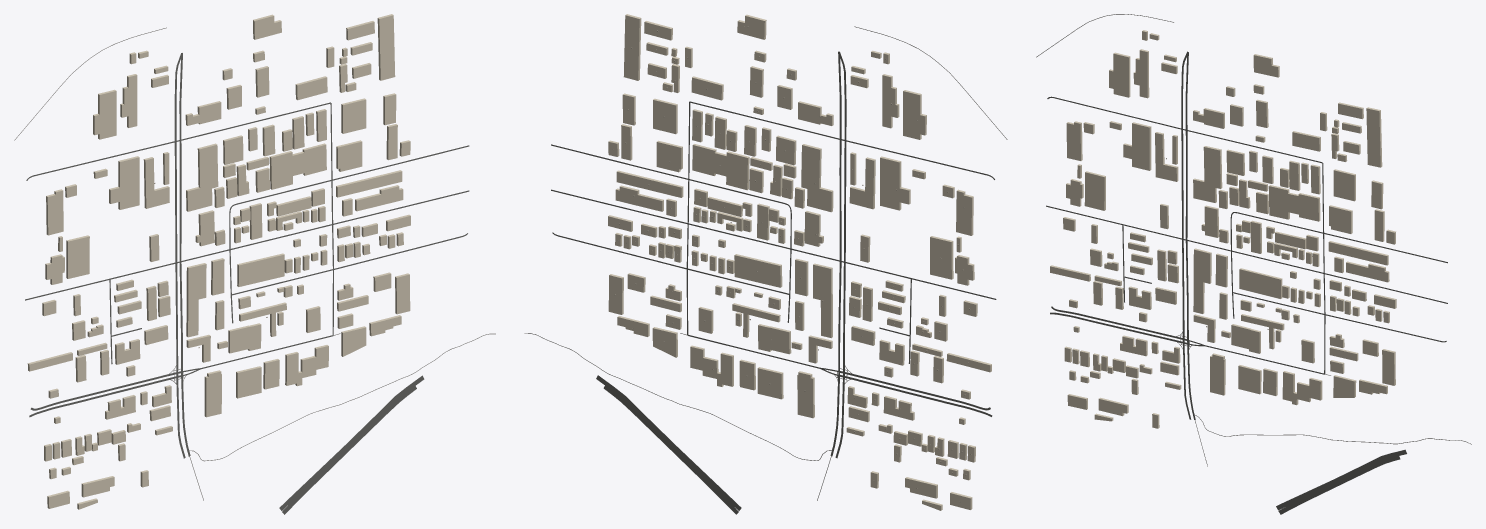
The model's file is historic-palestine-05_24_3468_3183.glb.
The picture shows the model from 3 angles, left to right: view 1: azimuth 30°, elevation 25°; view 2: azimuth 150°, elevation 25°; view 3: azimuth 330°, elevation 25°; orthographic projection. The views are drawn at different scales.
Visible parts, largest first — view 1: Building_.046, Building_.002, Building_.005, Building_.008, Building_.017, Building_.080, Building_.007, Building_.115, Building_.006, Road 41, Road הנפט.004, Road הקדמה (+20 smaller); view 2: Building_.046, Building_.002, Building_.005, Building_.017, Building_.008, Building_.080, Building_.007, Building_.115, Building_.006, Road 41, Road הנפט.004, Road הקדמה (+20 smaller); view 3: Building_.046, Building_.002, Building_.005, Building_.008, Building_.017, Building_.080, Building_.007, Building_.115, Building_.006, Road הקדמה, Road הנפט, Road 41 (+14 smaller).
Part boxes in pixels (x1,y1,x2,y2): Building_.046: [269, 143, 326, 189]; Building_.002: [186, 143, 218, 211]; Building_.005: [109, 156, 139, 209]; Building_.008: [186, 263, 206, 337]; Building_.017: [237, 253, 284, 286]; Building_.080: [285, 345, 328, 386]; Building_.007: [377, 14, 395, 80]; Building_.115: [93, 89, 116, 139]; Building_.006: [66, 235, 89, 278]; Road 41: [279, 375, 424, 510]; Road הנפט.004: [179, 53, 182, 371]; Road הקדמה: [25, 190, 469, 300]; Building_.046: [692, 144, 749, 190]; Building_.002: [801, 144, 833, 212]; Building_.005: [880, 156, 910, 210]; Building_.017: [734, 254, 782, 287]; Building_.008: [813, 263, 832, 338]; Building_.080: [690, 345, 733, 386]; Building_.007: [623, 14, 641, 80]; Building_.115: [903, 90, 926, 139]; Building_.006: [930, 236, 953, 279]; Road 41: [596, 375, 741, 510]; Road הנפט.004: [838, 51, 841, 371]; Road הקדמה: [551, 189, 996, 299]; Building_.046: [1268, 185, 1320, 221]; Building_.002: [1193, 146, 1222, 202]; Building_.005: [1123, 122, 1151, 170]; Building_.008: [1193, 248, 1211, 313]; Building_.017: [1239, 268, 1282, 298]; Building_.080: [1282, 371, 1322, 405]; Building_.007: [1366, 107, 1382, 167]; Building_.115: [1109, 52, 1130, 97]; Building_.006: [1084, 171, 1105, 210]; Road הקדמה: [1046, 205, 1447, 303]; Road הנפט: [1181, 51, 1187, 339]; Road 41: [1276, 449, 1406, 510].
Size of the model in its own units: 1266 by 1295 by 8.7.
